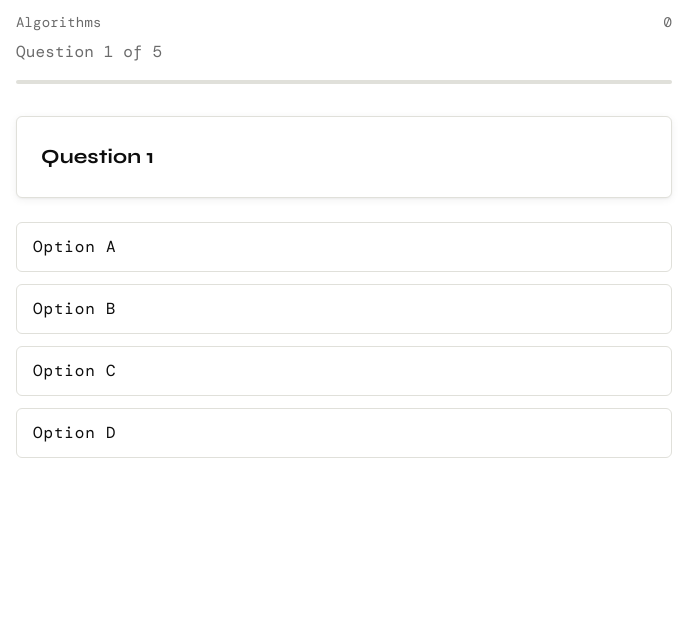
QuizScreen — answer selection › advances to the next question on Next click
Click the button "Option A" at x=75, y=247, box [16,222,672,272]
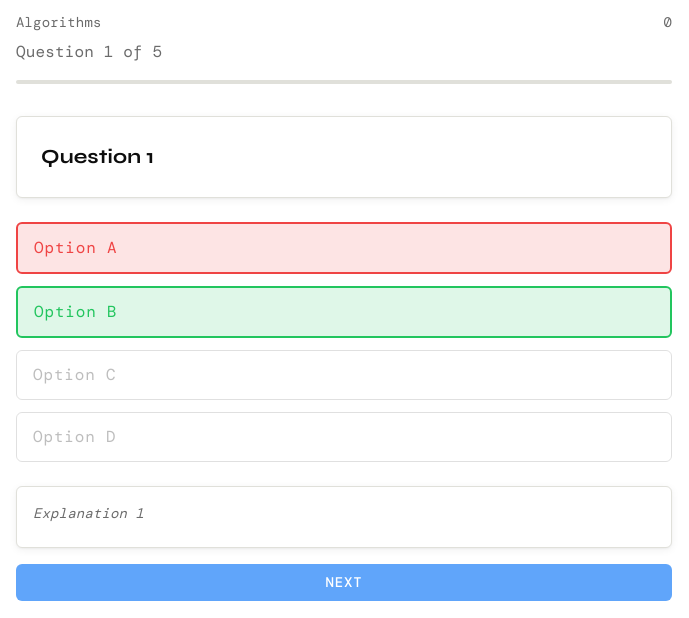
Click the button "Next" at x=344, y=582, box [16,564,672,600]
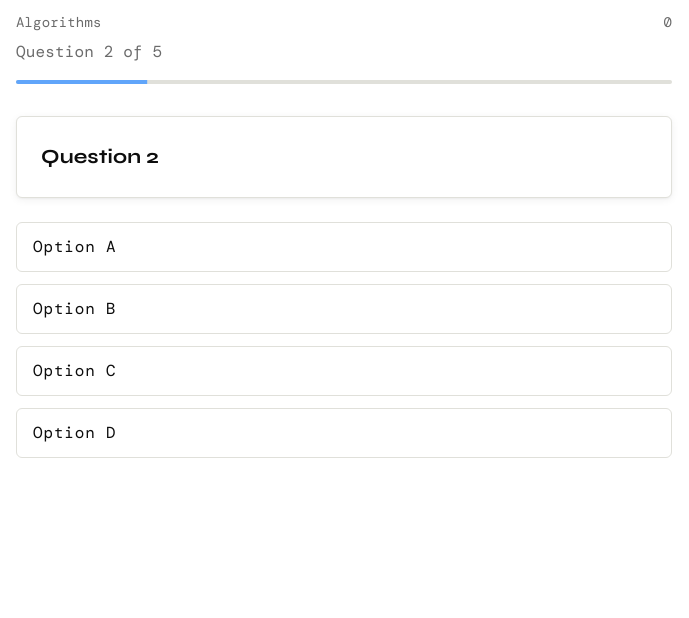
Result: the text "Question 2 of 5" is shown at [16,41,162,62]
